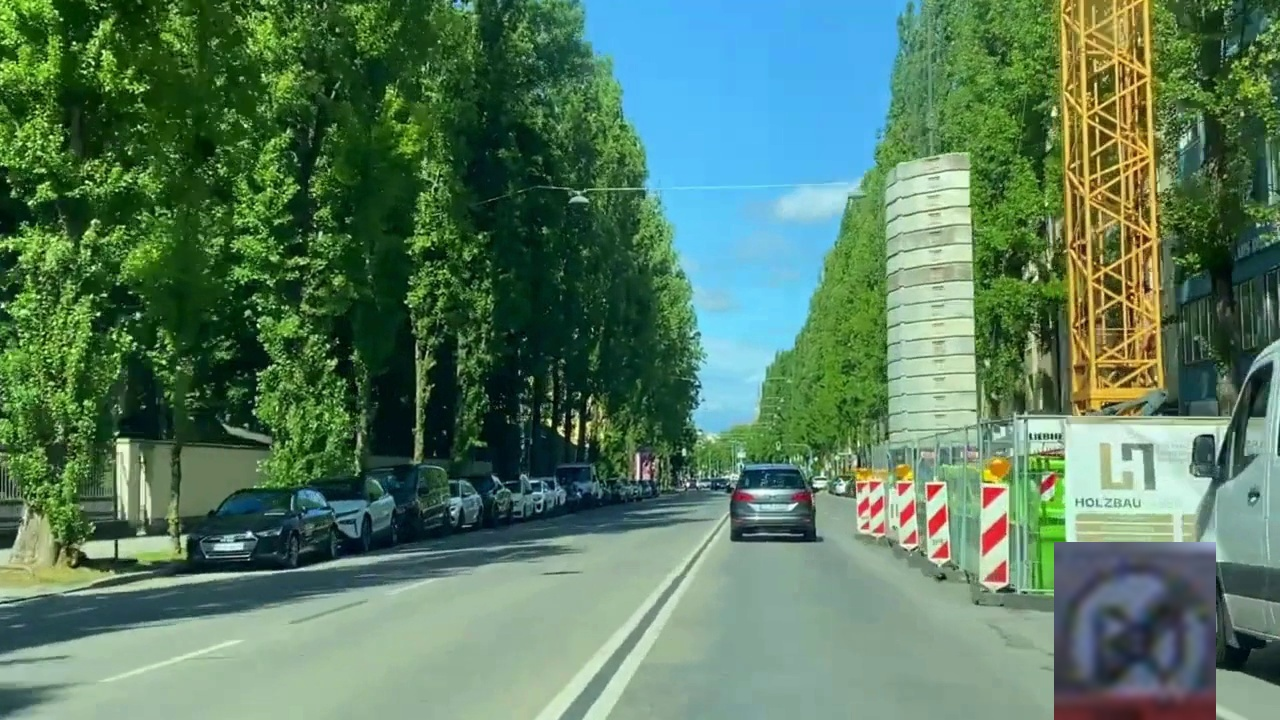End Speed 80: (1054, 542, 1216, 720)
